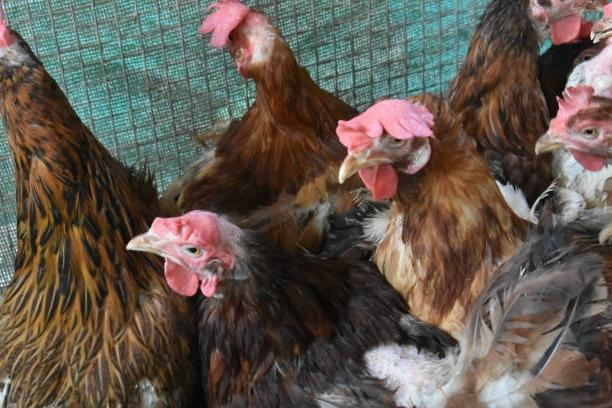AbNormal: (323, 95, 494, 258), (118, 210, 290, 349), (193, 2, 336, 149)
